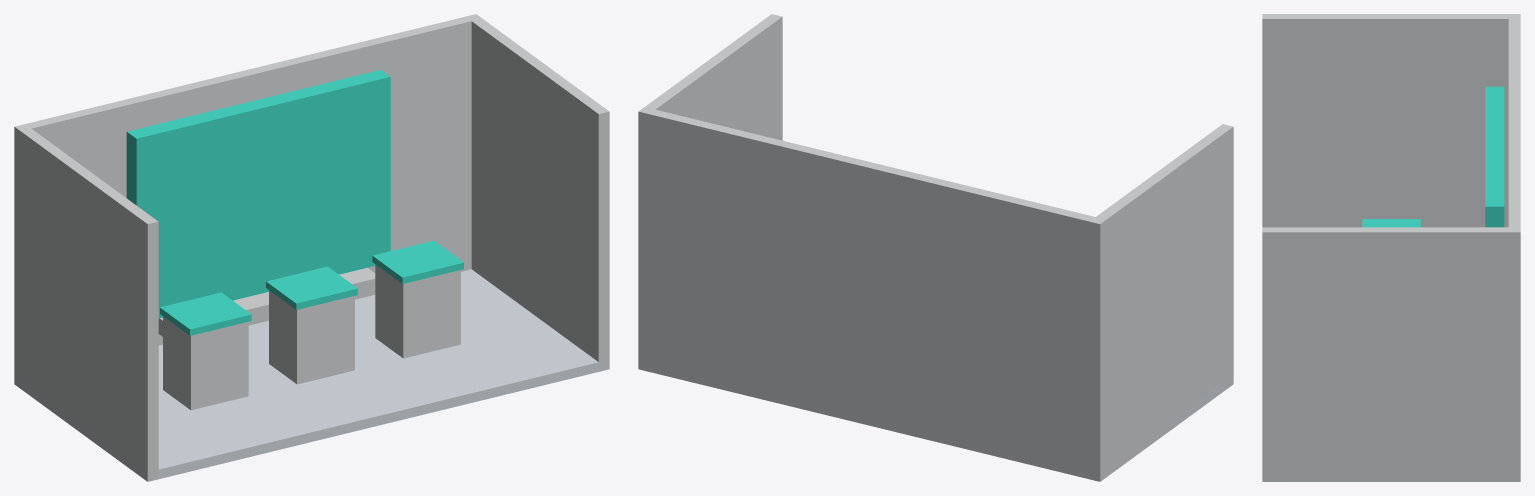
3 views of the same model, side by side, from view 1: azimuth 30°, elevation 25°; view 2: azimuth 150°, elevation 25°; view 3: azimuth 270°, elevation 25° (orthographic). The views are drawn at different scales.
Parts seen in each view (by area): view 1: Exhibition Booth Concept; view 2: Exhibition Booth Concept; view 3: Exhibition Booth Concept.
Boxes of the visible parts, x1,y1,x2,y2 form: Exhibition Booth Concept: [14, 14, 609, 481]; Exhibition Booth Concept: [638, 14, 1233, 481]; Exhibition Booth Concept: [1262, 14, 1520, 481].
Size of the model in its own units: 6 by 3.2 by 3.
